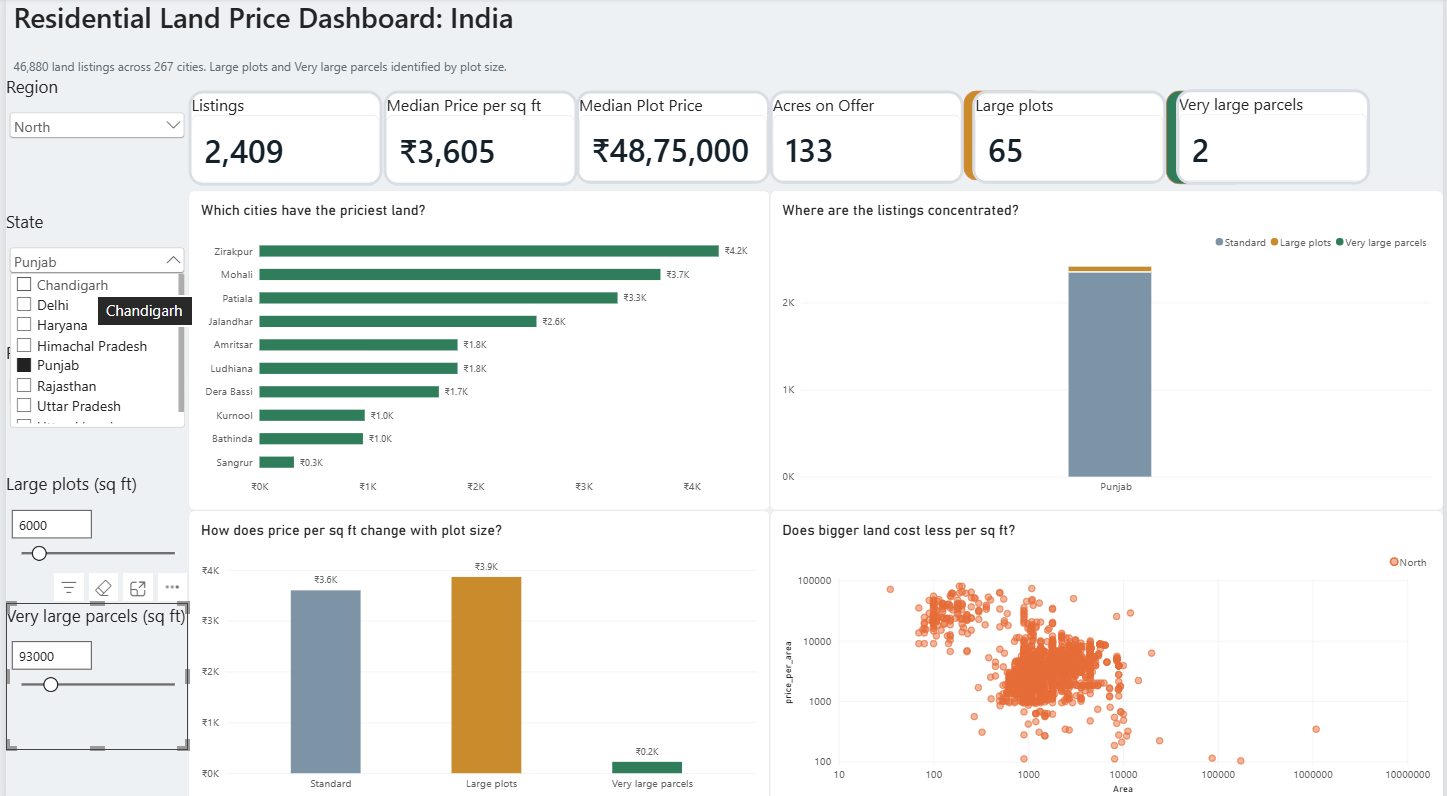

The page's visual inventory and layout, read from the dashboard file:
{"tool":"powerbi","page":{"name":"Land Market Overview","canvas":[1920,1080],"ordinal":0},"visuals":[{"type":"textbox","box":[10.3,0,1910.1,53.5],"z":0},{"type":"textbox","box":[10.3,80.3,1910.1,43.2],"z":1000},{"type":"slicer","title":"Region","fields":{"Values":["Land.region"]},"box":[0,101.9,243.8,175.3],"z":2000},{"type":"slicer","title":"State","fields":{"Values":["Land.state"]},"box":[0,282.2,243.8,175.3],"z":3000},{"type":"slicer","title":"Plot type","fields":{"Values":["Plot Segments.Segment"]},"box":[0,457.5,243.8,175.3],"z":4000},{"type":"cardVisual","title":"Listings","fields":{"Data":["Land.Seg Listings"]},"box":[243.8,123.6,259.5,127],"z":5000},{"type":"cardVisual","title":"Acres on Offer","fields":{"Data":["Land.Seg Acres"]},"box":[1020.2,123.6,259.5,125.2],"z":6000},{"type":"cardVisual","title":"Median Plot Price","fields":{"Data":["Land.Seg Median Plot Price"]},"box":[761.4,123.6,259.5,125.2],"z":7000},{"type":"shape","box":[1279,123.6,108.5,120.2],"z":8500},{"type":"cardVisual","title":"Large plots","fields":{"Data":["Land.Hotel Sites"]},"box":[1290.7,123.6,259.5,125.2],"z":8750},{"type":"cardVisual","title":"Median Price per sq ft","fields":{"Data":["Land.Seg Median Price per sq ft"]},"box":[504.3,123.6,259.5,127],"z":11000},{"type":"shape","box":[1549.5,123.6,108.5,125.2],"z":11250},{"type":"cardVisual","title":"Very large parcels","fields":{"Data":["Land.Township Sites"]},"box":[1562.9,121.9,259.5,127],"z":11500},{"type":"clusteredBarChart","title":"Which cities have the priciest land?","fields":{"Category":["Land.city"],"Y":["Land.Seg Median Price per sq ft"]},"box":[243.8,257.1,776.4,427.5],"z":11501},{"type":"clusteredColumnChart","title":"How does price per sq ft change with plot size?","fields":{"Category":["Plot Segments.Segment"],"Y":["Land.Seg Median Price per sq ft"]},"box":[243.8,684.6,776.4,395.7],"z":11502},{"type":"columnChart","title":"Where are the listings concentrated?","fields":{"Category":["Land.state"],"Series":["Plot Segments.Segment"],"Y":["Land.Seg Listings"]},"box":[1020.2,257.1,900,427.5],"z":11503},{"type":"scatterChart","title":"Does bigger land cost less per sq ft?","fields":{"Series":["Land.region"],"X":["Land.Area"],"Y":["Land.price_per_area"]},"box":[1020.2,684.6,900,395.7],"z":11504},{"type":"slicer","title":"Large plots (sq ft)","fields":{"Values":["Hotel-scale from.Hotel-scale from"]},"box":[0,632.8,243.8,175.3],"z":11505},{"type":"slicer","title":"Very large parcels (sq ft)","fields":{"Values":["Township-scale from.Township-scale from"]},"box":[0,808.2,243.8,197],"z":11506}]}

Visuals, with their boxes on the page's 1920x1080 design canvas (x1, y1, x2, y2). These are canvas units, not pixel positions in the 1447x796 screenshot, which may show the page scaled, cropped or inside an application window:
textbox: bbox=(10, 0, 1920, 54)
textbox: bbox=(10, 80, 1920, 124)
"Region" slicer: bbox=(0, 102, 244, 277)
"State" slicer: bbox=(0, 282, 244, 458)
"Plot type" slicer: bbox=(0, 458, 244, 633)
"Listings" cardVisual: bbox=(244, 124, 503, 251)
"Acres on Offer" cardVisual: bbox=(1020, 124, 1280, 249)
"Median Plot Price" cardVisual: bbox=(761, 124, 1021, 249)
shape: bbox=(1279, 124, 1388, 244)
"Large plots" cardVisual: bbox=(1291, 124, 1550, 249)
"Median Price per sq ft" cardVisual: bbox=(504, 124, 764, 251)
shape: bbox=(1550, 124, 1658, 249)
"Very large parcels" cardVisual: bbox=(1563, 122, 1822, 249)
"Which cities have the priciest land?" clusteredBarChart: bbox=(244, 257, 1020, 685)
"How does price per sq ft change with plot size?" clusteredColumnChart: bbox=(244, 685, 1020, 1080)
"Where are the listings concentrated?" columnChart: bbox=(1020, 257, 1920, 685)
"Does bigger land cost less per sq ft?" scatterChart: bbox=(1020, 685, 1920, 1080)
"Large plots (sq ft)" slicer: bbox=(0, 633, 244, 808)
"Very large parcels (sq ft)" slicer: bbox=(0, 808, 244, 1005)
